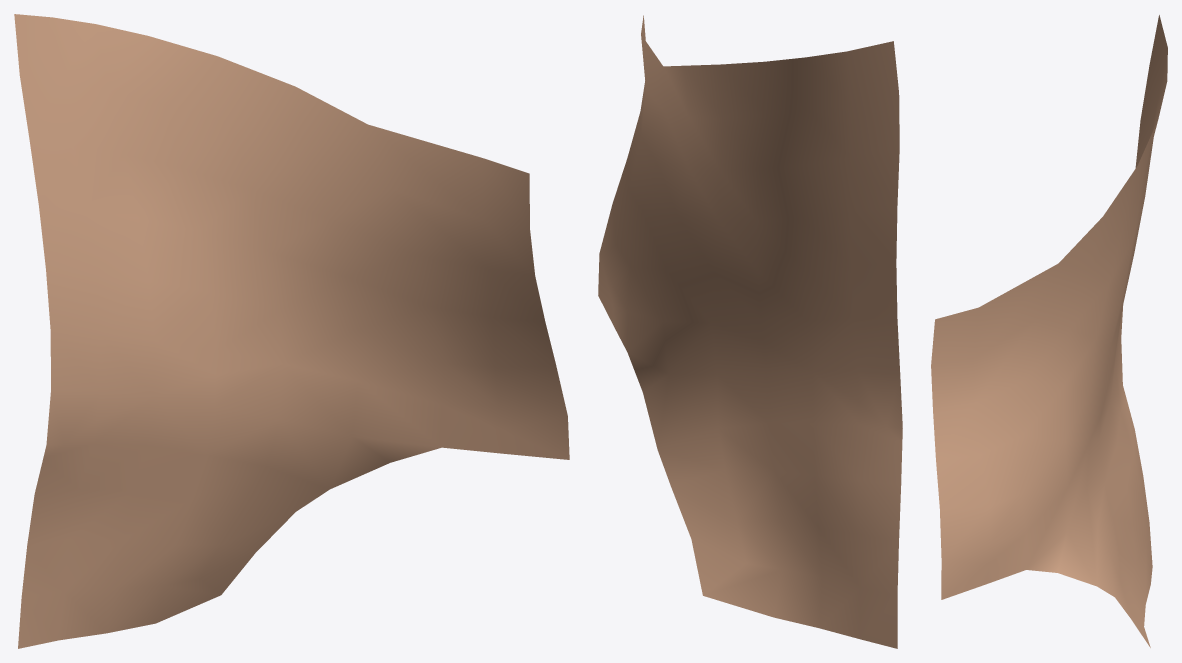
Rendered from lumbar-region-l.glb.
3 renders of one model, left to right at view 1: azimuth 30°, elevation 25°; view 2: azimuth 150°, elevation 25°; view 3: azimuth 270°, elevation 25°, orthographic. The views are drawn at different scales.
Visible parts, largest first — view 1: Lumbar region.l; view 2: Lumbar region.l; view 3: Lumbar region.l.
Part boxes in pixels (x1,y1,x2,y2): Lumbar region.l: [14, 14, 569, 648]; Lumbar region.l: [598, 15, 902, 648]; Lumbar region.l: [931, 15, 1167, 647].
Size of the model in its own units: 0.1126 by 0.1588 by 0.0613.
